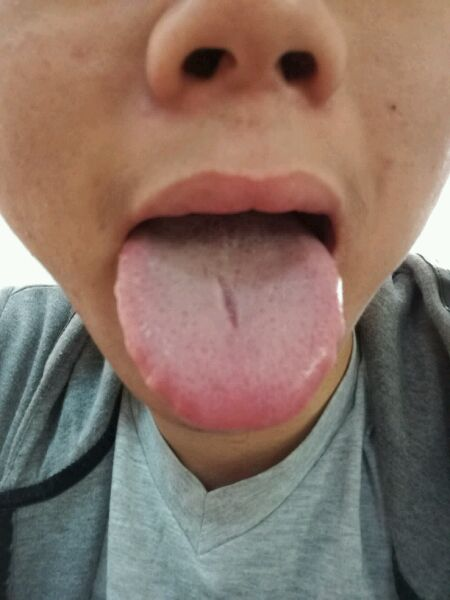baitaishe: (115, 219, 344, 431)
chihenshe: (133, 340, 184, 422)
hongshe: (115, 219, 344, 431)
liewenshe: (216, 269, 240, 328)
